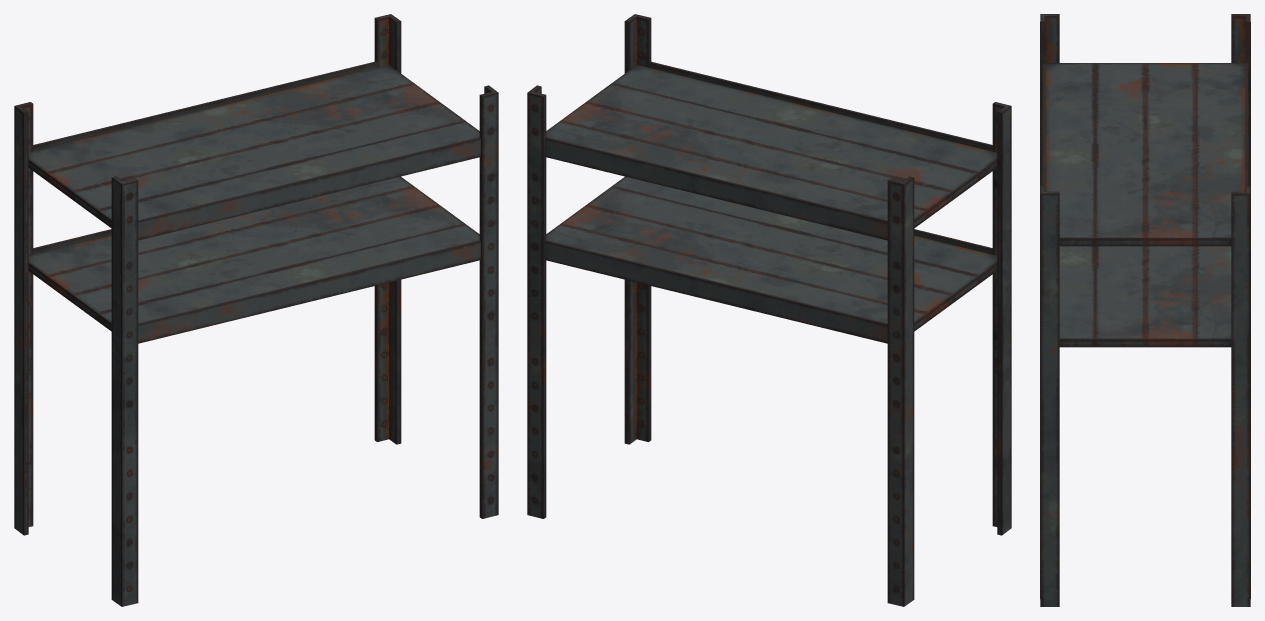
The model's file is MetalShelfUp.FBX.
3 renders of one model, left to right at view 1: azimuth 30°, elevation 25°; view 2: azimuth 150°, elevation 25°; view 3: azimuth 270°, elevation 25°, orthographic. The views are drawn at different scales.
Visible parts, largest first — view 1: Metal_Shelf_LOD1; view 2: Metal_Shelf_LOD1; view 3: Metal_Shelf_LOD1.
Part boxes in pixels (x1,y1,x2,y2): Metal_Shelf_LOD1: (14, 14, 498, 606); Metal_Shelf_LOD1: (527, 14, 1011, 606); Metal_Shelf_LOD1: (1040, 14, 1250, 606).
Size of the model in its own units: 73.2 by 36.22 by 78.35.
